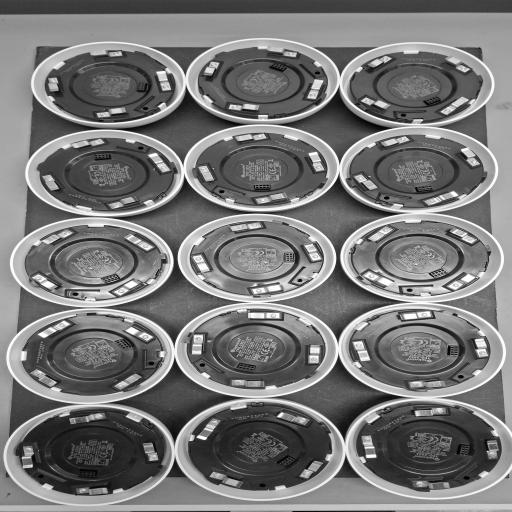konnektor: (234, 361, 258, 372), (426, 268, 452, 278), (446, 344, 462, 359), (77, 468, 98, 479), (98, 273, 119, 284), (454, 444, 473, 456), (116, 338, 132, 352), (276, 456, 296, 467), (282, 252, 296, 266), (423, 96, 442, 106), (268, 63, 290, 71), (135, 82, 150, 93), (92, 154, 114, 161), (251, 184, 273, 190), (416, 185, 434, 192)
yaysiz: (442, 224, 480, 247), (27, 270, 65, 292), (192, 417, 225, 442), (36, 319, 75, 340), (209, 470, 248, 490), (366, 223, 399, 246), (18, 441, 44, 470), (421, 189, 465, 206), (300, 149, 328, 175), (298, 239, 326, 265), (349, 338, 375, 366), (358, 434, 384, 462), (145, 151, 175, 175), (120, 232, 156, 252), (360, 270, 397, 289), (300, 77, 328, 102), (29, 368, 62, 389), (254, 191, 296, 207), (66, 411, 108, 427), (273, 410, 314, 426), (190, 253, 216, 278), (402, 377, 448, 391), (449, 271, 479, 292), (393, 309, 435, 324), (102, 195, 141, 211), (71, 483, 115, 497), (40, 228, 74, 246), (226, 221, 266, 236), (444, 54, 473, 74), (114, 372, 143, 392), (376, 134, 412, 150), (263, 45, 301, 60), (115, 278, 146, 296), (139, 440, 163, 463), (456, 146, 481, 168), (350, 172, 377, 192), (242, 310, 287, 322), (245, 282, 286, 295), (413, 478, 454, 491), (442, 96, 470, 115), (411, 406, 449, 420), (122, 325, 155, 341), (471, 335, 492, 360), (154, 69, 174, 94), (198, 60, 223, 80), (364, 54, 395, 70), (302, 343, 324, 365), (85, 48, 125, 60), (68, 138, 108, 150), (195, 164, 219, 184), (300, 458, 324, 478), (482, 437, 501, 462), (231, 132, 270, 144), (228, 379, 274, 389), (362, 96, 392, 111), (227, 102, 264, 114), (94, 106, 128, 119), (40, 174, 62, 194), (189, 333, 208, 356), (47, 73, 63, 97)
